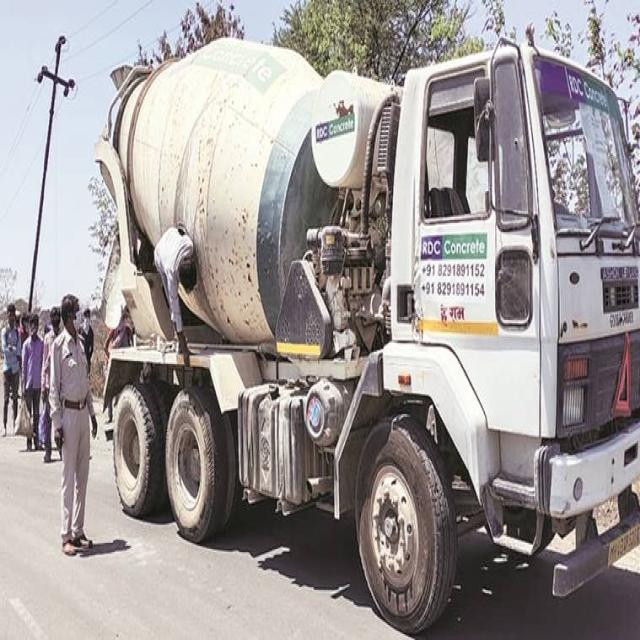truck: (95, 36, 640, 631)
